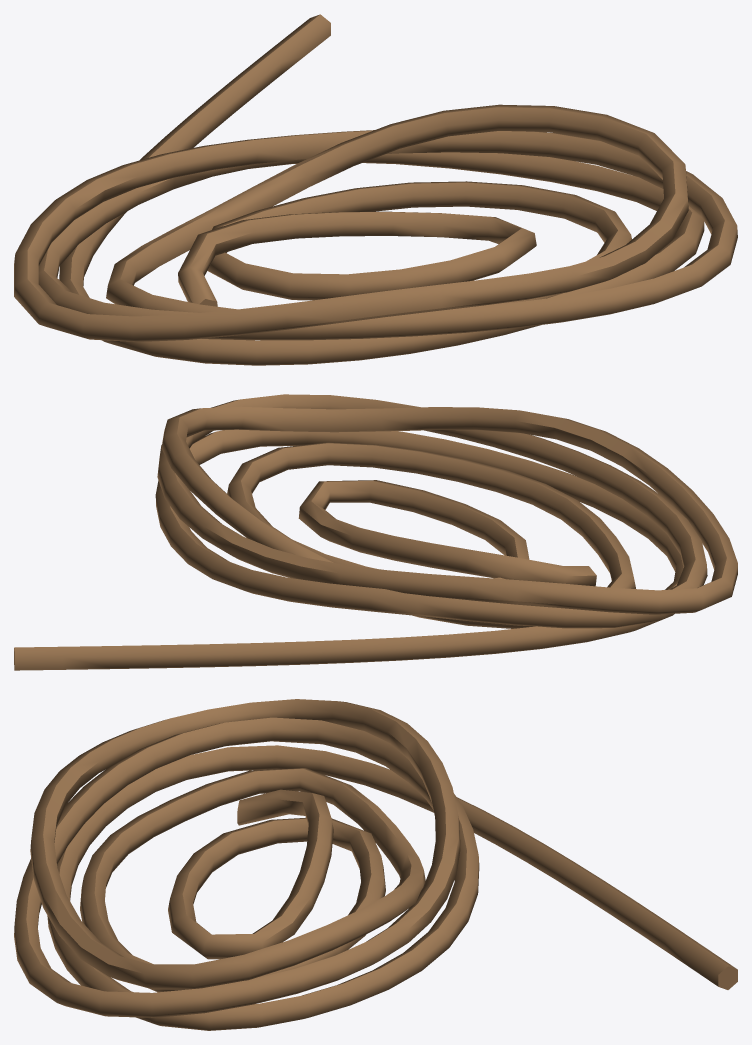
The model's file is Rope Pile.fbx.
3 views of the same model, one above another, from view 1: azimuth 30°, elevation 25°; view 2: azimuth 150°, elevation 25°; view 3: azimuth 270°, elevation 25° (orthographic). The views are drawn at different scales.
Visible parts, largest first — view 1: Rope_Pile; view 2: Rope_Pile; view 3: Rope_Pile.
Part boxes in pixels (x1,y1,x2,y2): Rope_Pile: [14, 14, 737, 365]; Rope_Pile: [14, 394, 737, 670]; Rope_Pile: [14, 699, 737, 1030].
Size of the model in its own units: 2.64 by 0.3424 by 2.72.
